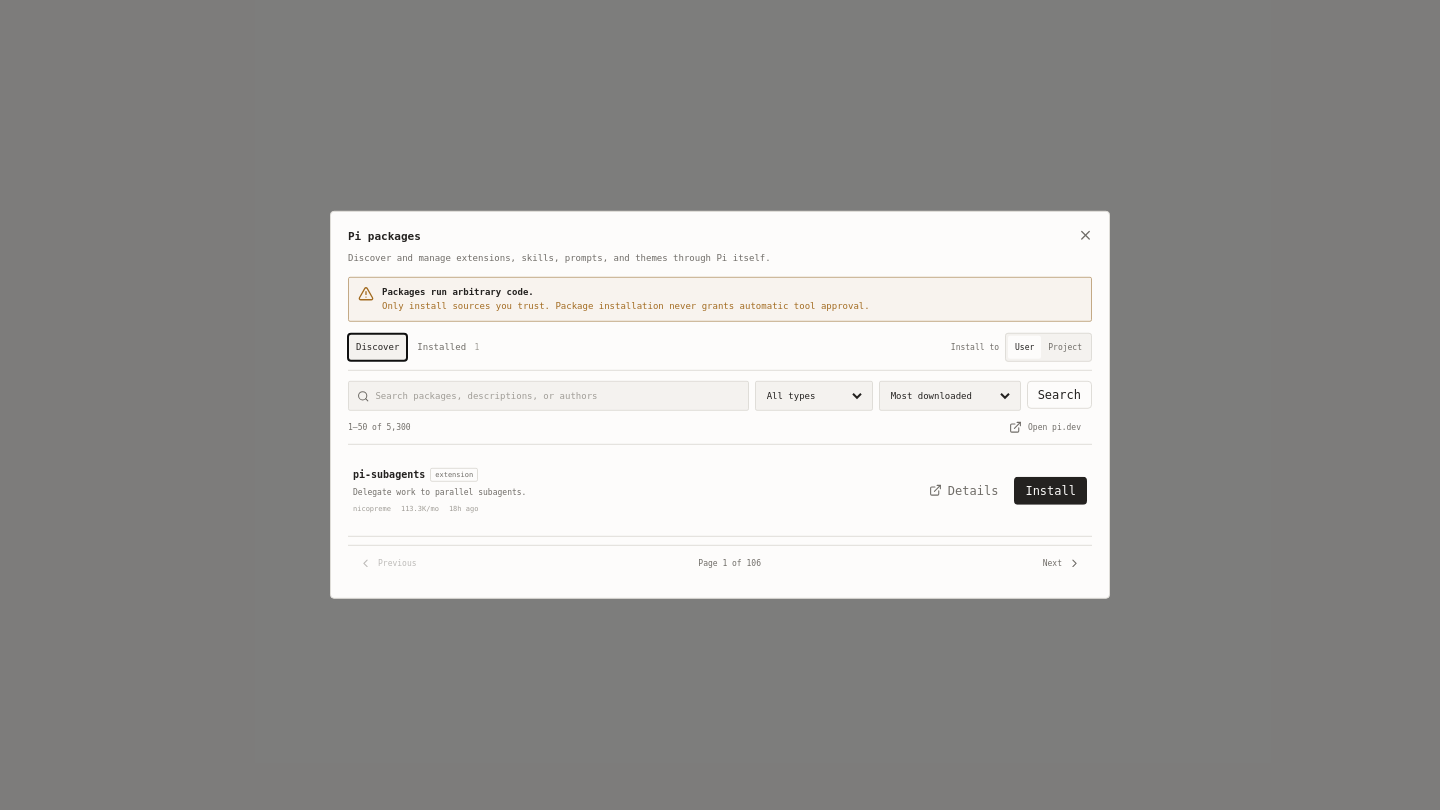
PackageManagerDialog › streams install progress and cancels by operation id
Expected: the text "pi-subagents" is shown, [353,467,425,482]
Click the tab "Installed 1".
click(448, 348)  # box [409,334,487,361]
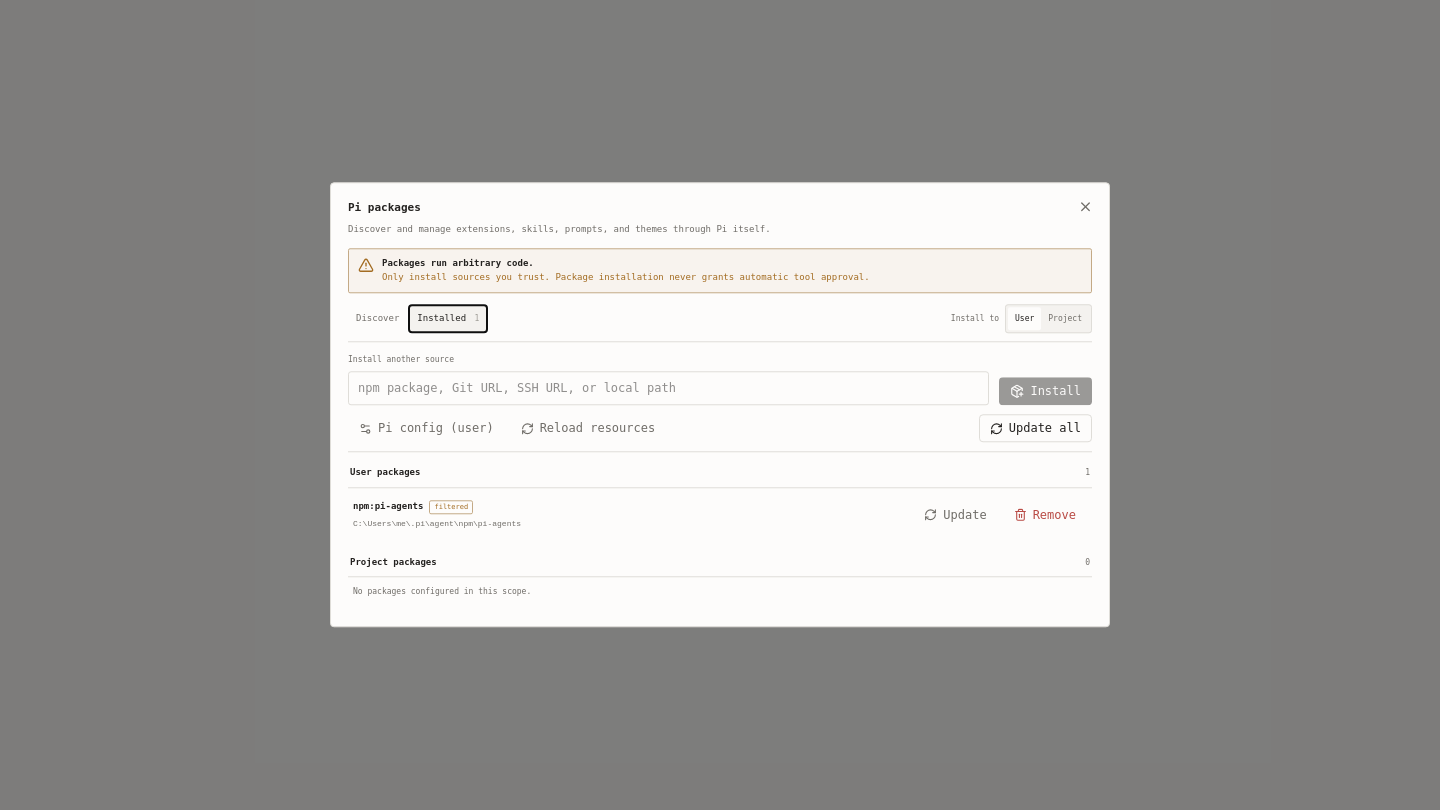
Type ".\\local-package" into the field labelled "Install another source".
click(669, 389); type(".\\local-package")  # box [348,372,989,406]
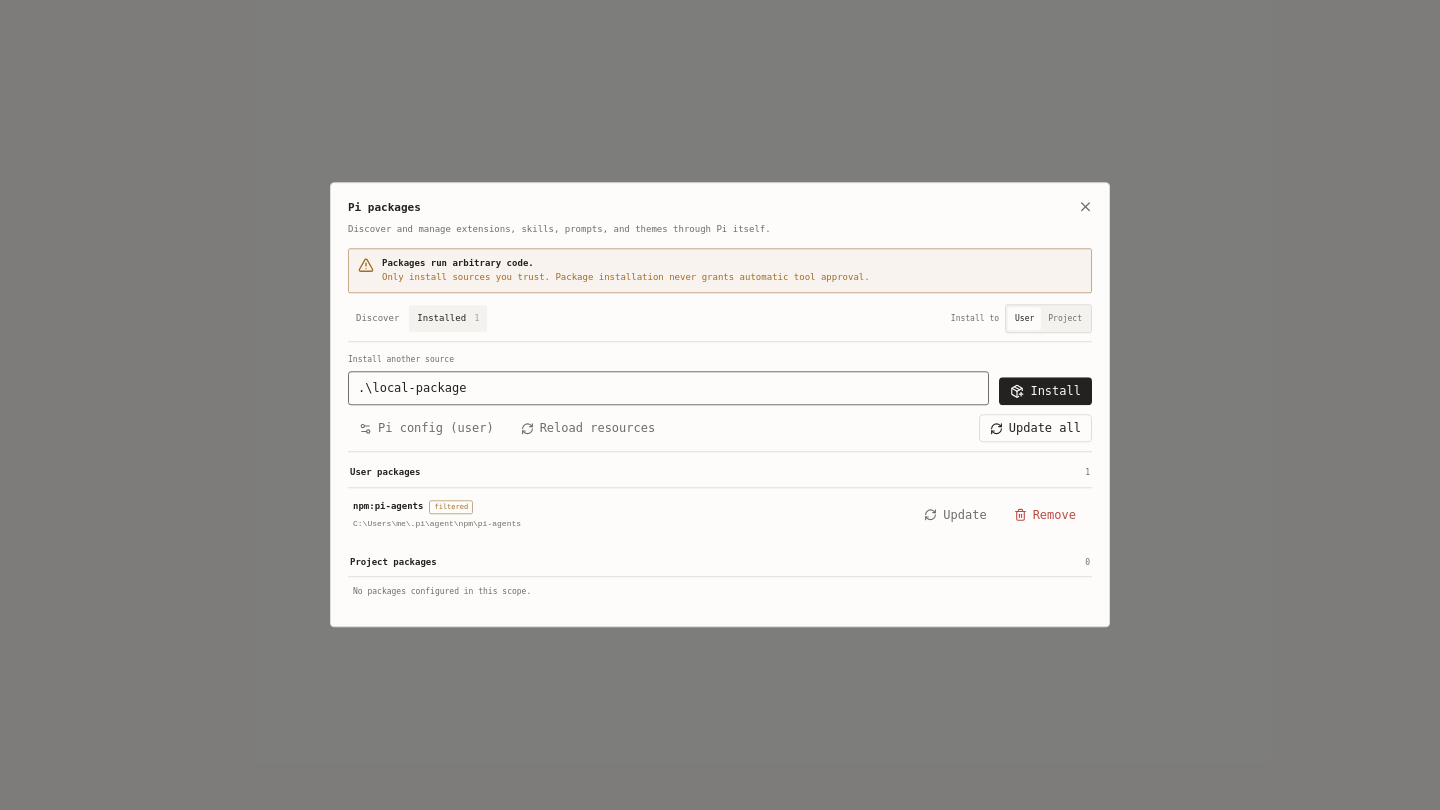
Click the button "Project".
click(1065, 319)  # box [1041,308,1089,331]
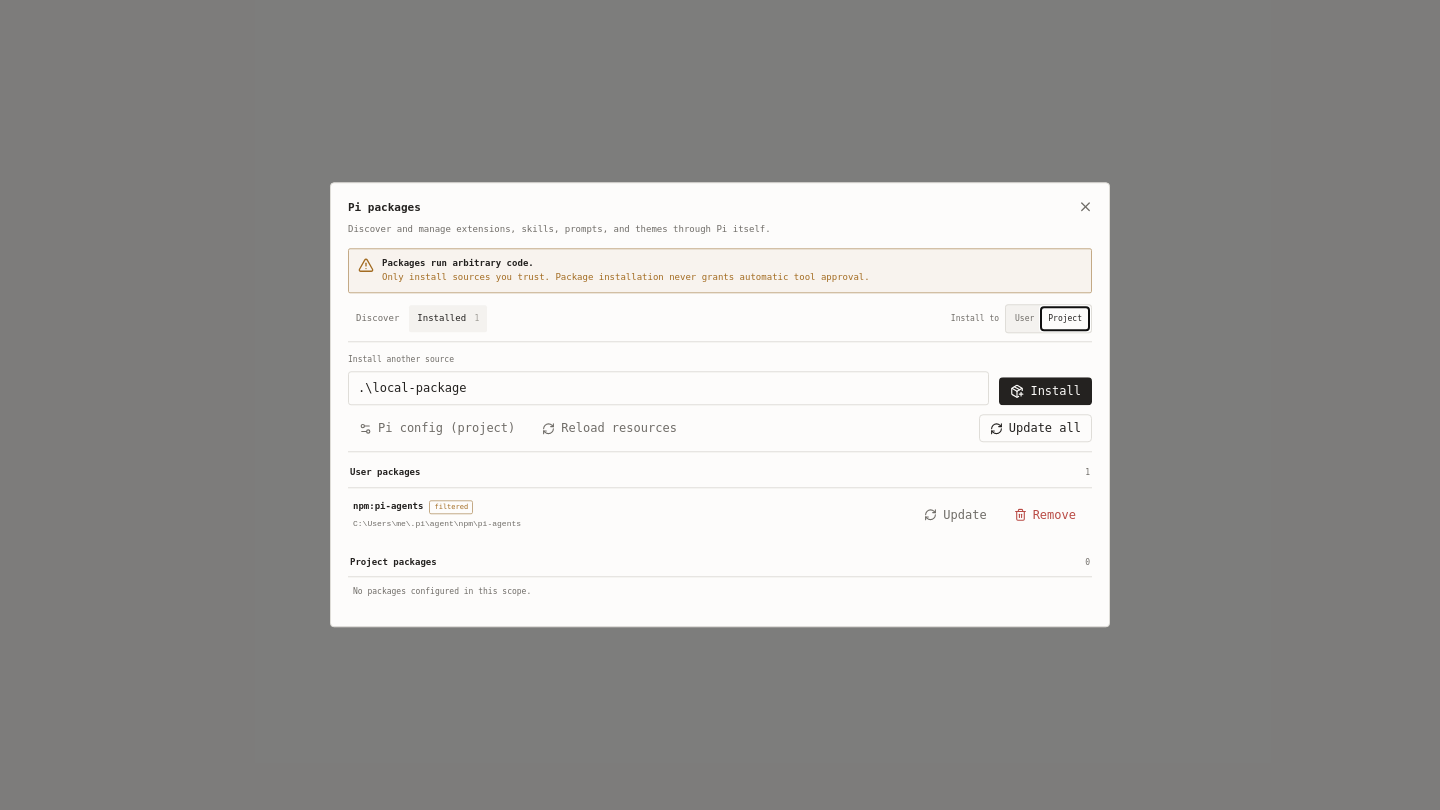
Click the button "Install".
click(1046, 392)  # box [999,378,1092,406]
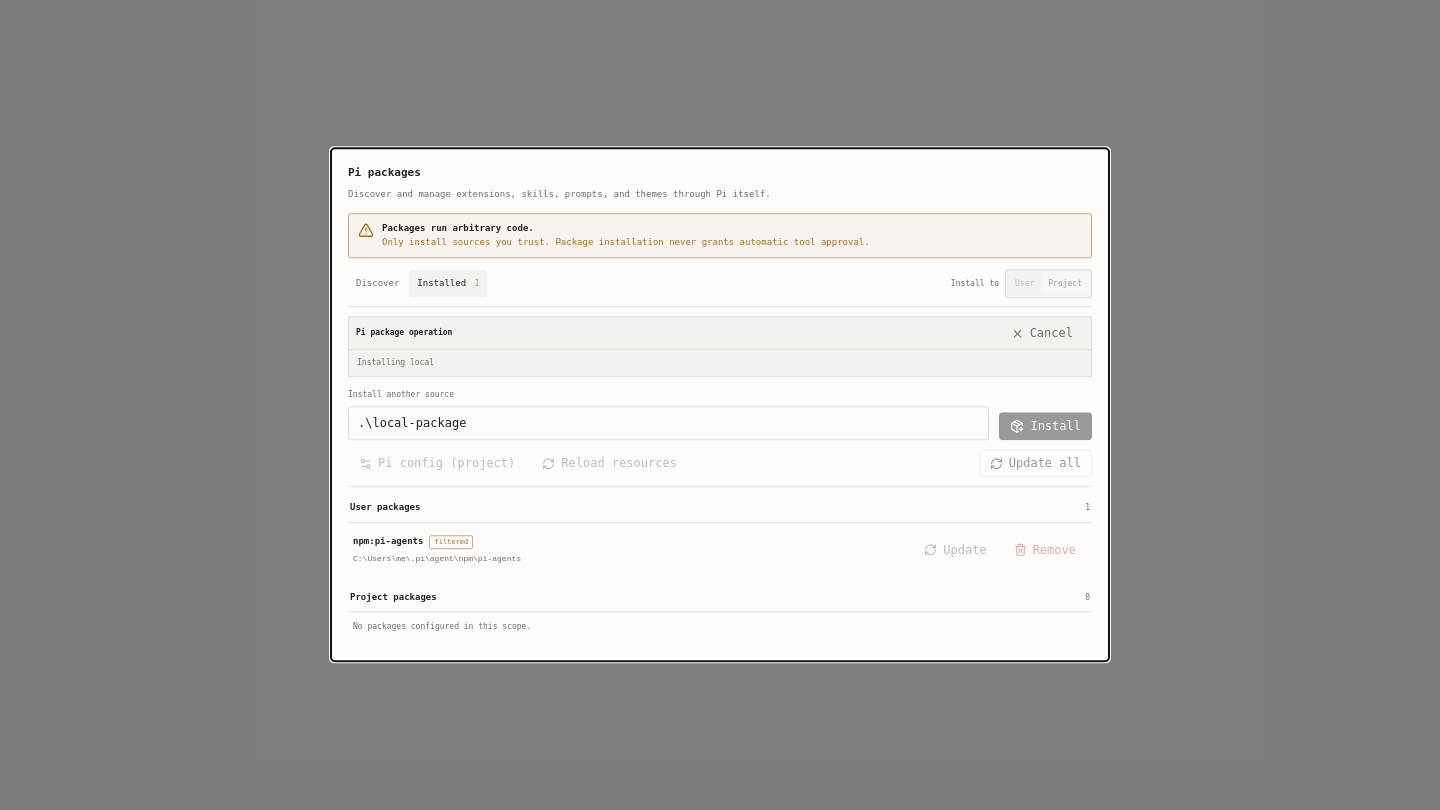
Now the text "Installing local" is shown, box [357,359,434,368]
Click the button "Cancel".
click(1042, 334)  # box [1000,320,1084,348]
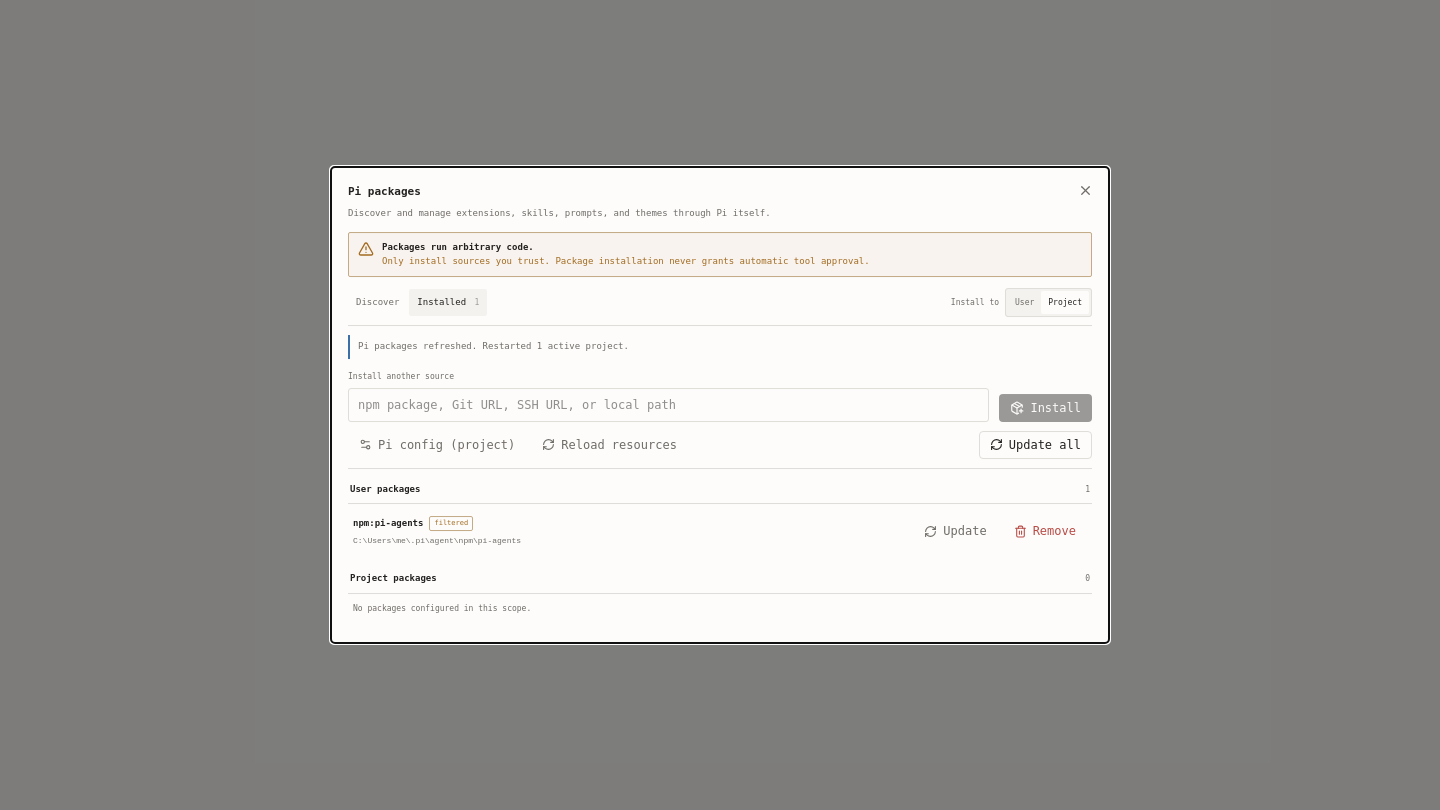
Now the text "Pi packages refreshed. Restarted 1 active project." is shown, box [348,336,1092,359]
